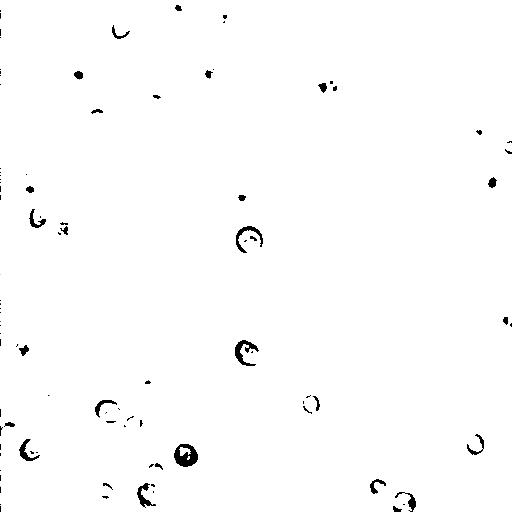micro-algae: (363, 20, 445, 103), (353, 443, 429, 512), (12, 74, 78, 142), (23, 117, 87, 178), (54, 414, 113, 474), (18, 345, 80, 401), (151, 333, 206, 386), (1, 22, 41, 84), (37, 0, 112, 30), (190, 346, 238, 392), (471, 55, 512, 108), (114, 388, 160, 432), (198, 390, 240, 434), (1, 474, 49, 512), (470, 161, 511, 204), (40, 180, 79, 216), (308, 67, 348, 101), (135, 480, 171, 512), (81, 101, 114, 135), (136, 371, 169, 404), (235, 225, 264, 256), (196, 58, 225, 88), (234, 338, 263, 368), (465, 118, 494, 147), (15, 176, 46, 203), (93, 397, 124, 424), (217, 0, 264, 17), (215, 6, 243, 34), (486, 302, 512, 332), (173, 443, 200, 471), (65, 62, 92, 89), (125, 237, 148, 268), (18, 436, 45, 462), (223, 437, 251, 462), (28, 204, 52, 230), (11, 338, 35, 364), (304, 351, 326, 378), (391, 490, 417, 512), (167, 0, 198, 18), (52, 219, 78, 240), (1, 420, 20, 447), (121, 414, 145, 435), (466, 432, 486, 456), (268, 92, 289, 114), (112, 17, 132, 40), (302, 392, 321, 416), (92, 481, 116, 500), (367, 478, 388, 498), (146, 462, 165, 478), (436, 68, 450, 84), (234, 192, 249, 204), (503, 138, 512, 156), (506, 392, 511, 416)
